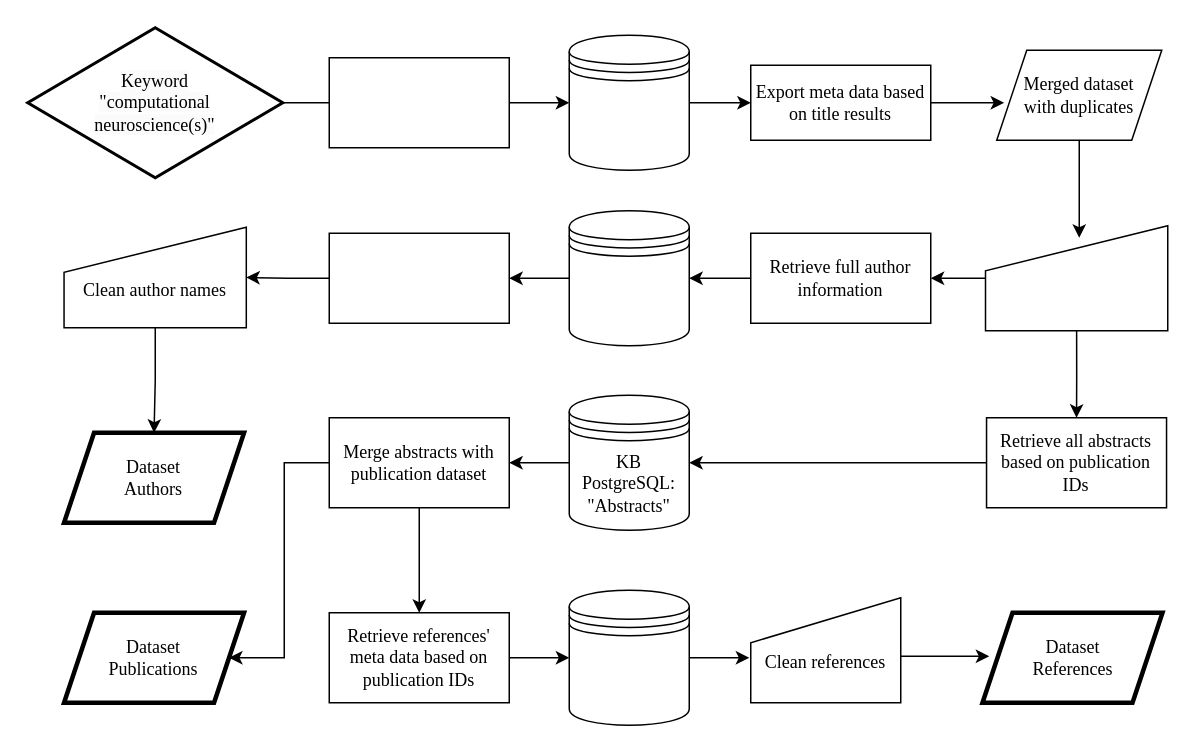
Some shapes in this 1194 by 752 pixel diagram are drawn without their labels. Here are the shapes that lost their labels. From the top down, the centre of each, then its label:
(x=418, y=102): Query publication's Title, Abstract, Keywords
(x=628, y=102): KB PostgreSQL: "Items"; "Abstracts"
(x=418, y=277): Merge author information
(x=628, y=277): KB PostgreSQL: "Authors"
(x=1076, y=277): Clean dataset and remove duplicates
(x=628, y=657): KB PostgreSQL: "References"
